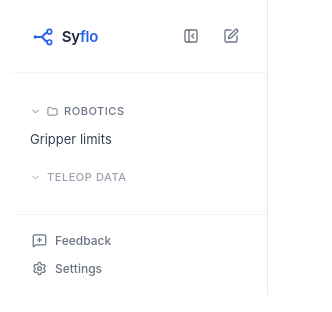
the category’s own menu › offers no "New subcategory" on a subcategory — depth stops at two
The image size is (332, 312).
Right-click the button with test id "subcategory-label-c2" at (140, 177), box [20, 167, 259, 188]
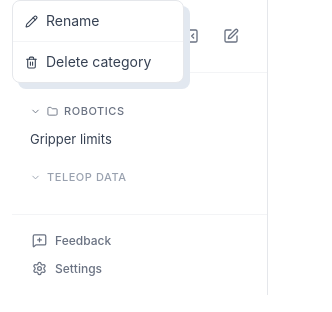
Result: the button "Delete category" is shown at [13, 46, 183, 78]
